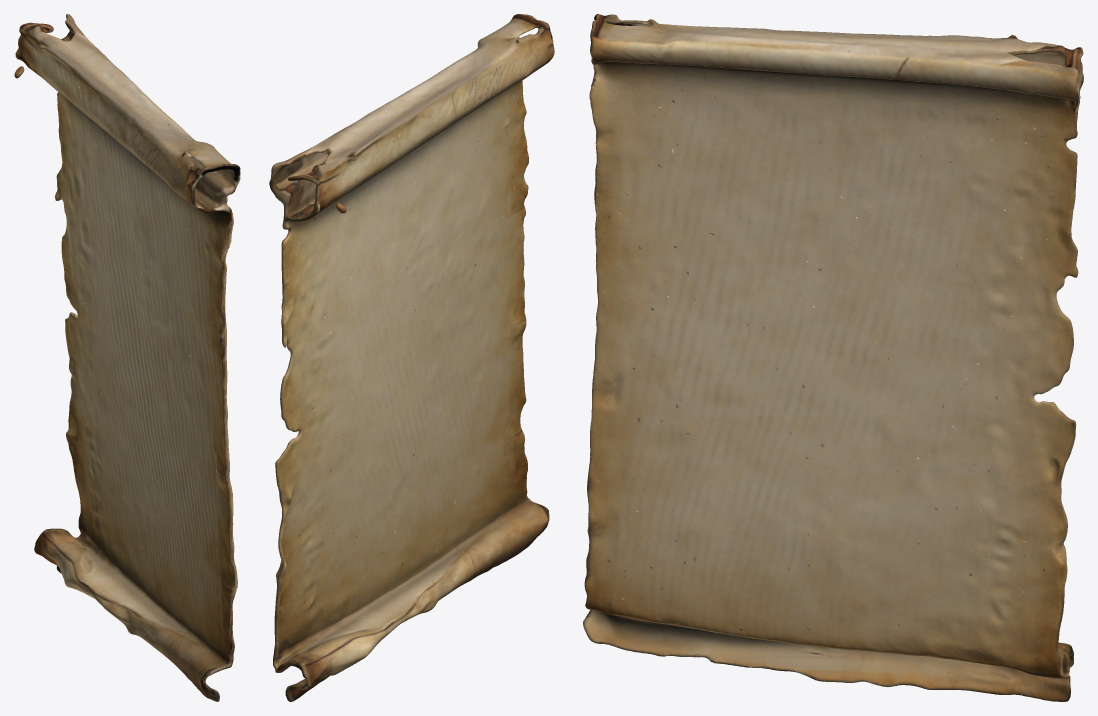
Rendered from Meshy_AI_creami_un_foglio_perg_0211100248_texture.glb.
3 views of the same model, side by side, from view 1: azimuth 30°, elevation 25°; view 2: azimuth 150°, elevation 25°; view 3: azimuth 270°, elevation 25° (orthographic). The views are drawn at different scales.
Size of the model in its own units: 0.3398 by 2 by 1.38.
1 material, 1 textured.
